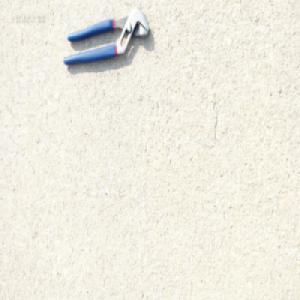Pliers: (62, 6, 150, 67)
